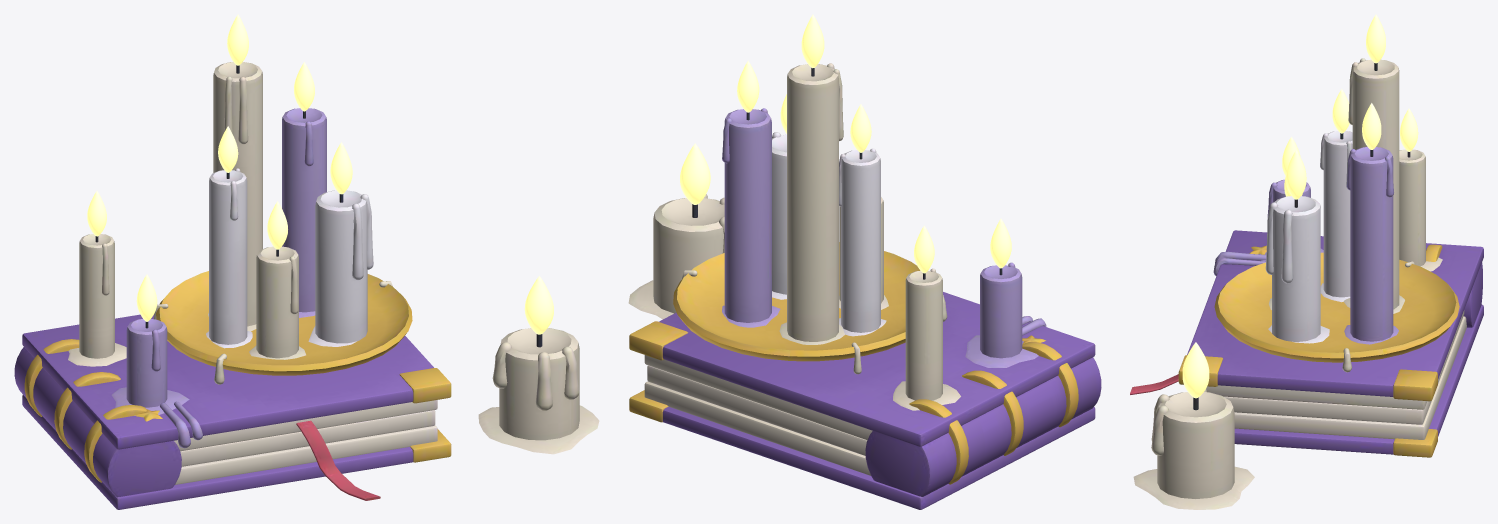
The model's file is velas.glb.
3 renders of one model, left to right at view 1: azimuth 30°, elevation 25°; view 2: azimuth 150°, elevation 25°; view 3: azimuth 270°, elevation 25°, orthographic. The views are drawn at different scales.
Parts seen in each view (by area): view 1: candle-cluster_body; view 2: candle-cluster_body; view 3: candle-cluster_body.
Boxes of the visible parts, x1=… form: candle-cluster_body: x1=14, y1=14, x2=599, y2=509; candle-cluster_body: x1=628, y1=14, x2=1101, y2=509; candle-cluster_body: x1=1130, y1=14, x2=1483, y2=509.
Size of the model in its own units: 0.4494 by 0.3658 by 0.3118.
Materials: 2 (1 with a texture image).
